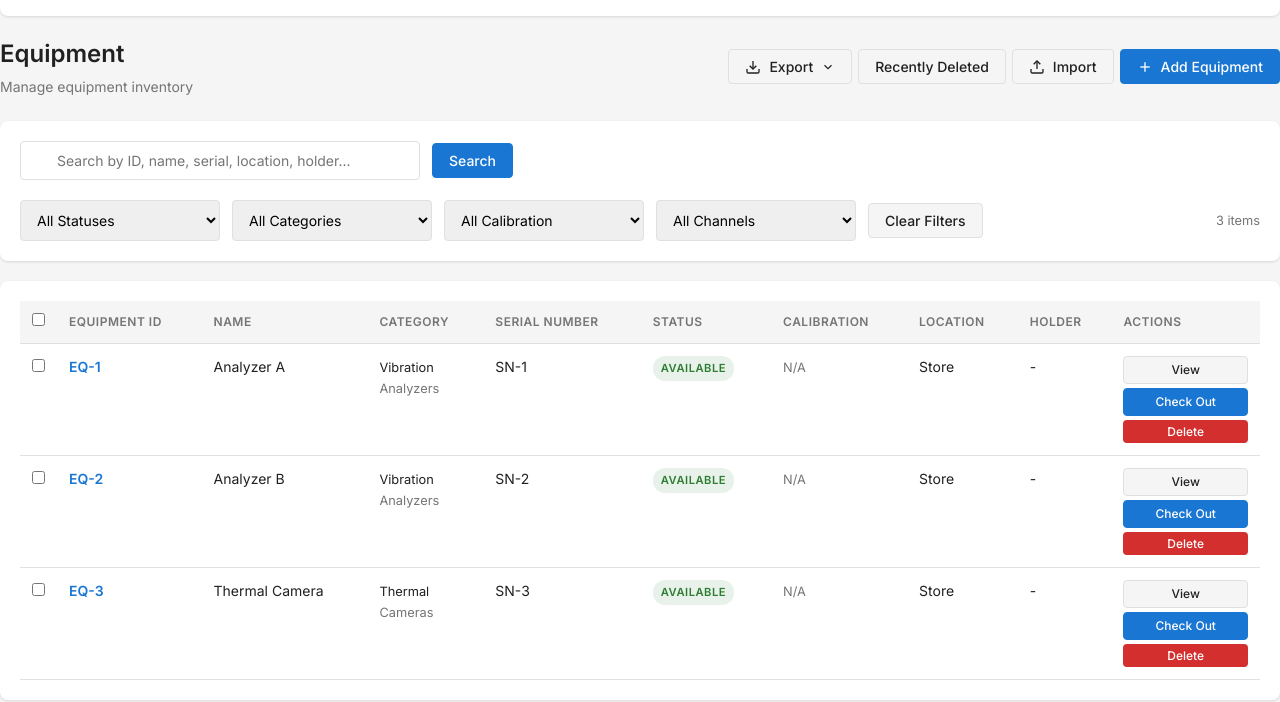
Scenario: Equipment bulk edit › selecting one row adds it to the selection
(page scrolled)
What coordinates should you click on to do the following:
click the checkbox named "Select EQ-1"
I would click on:
 (38, 366)
Its box is [32,359,45,372].
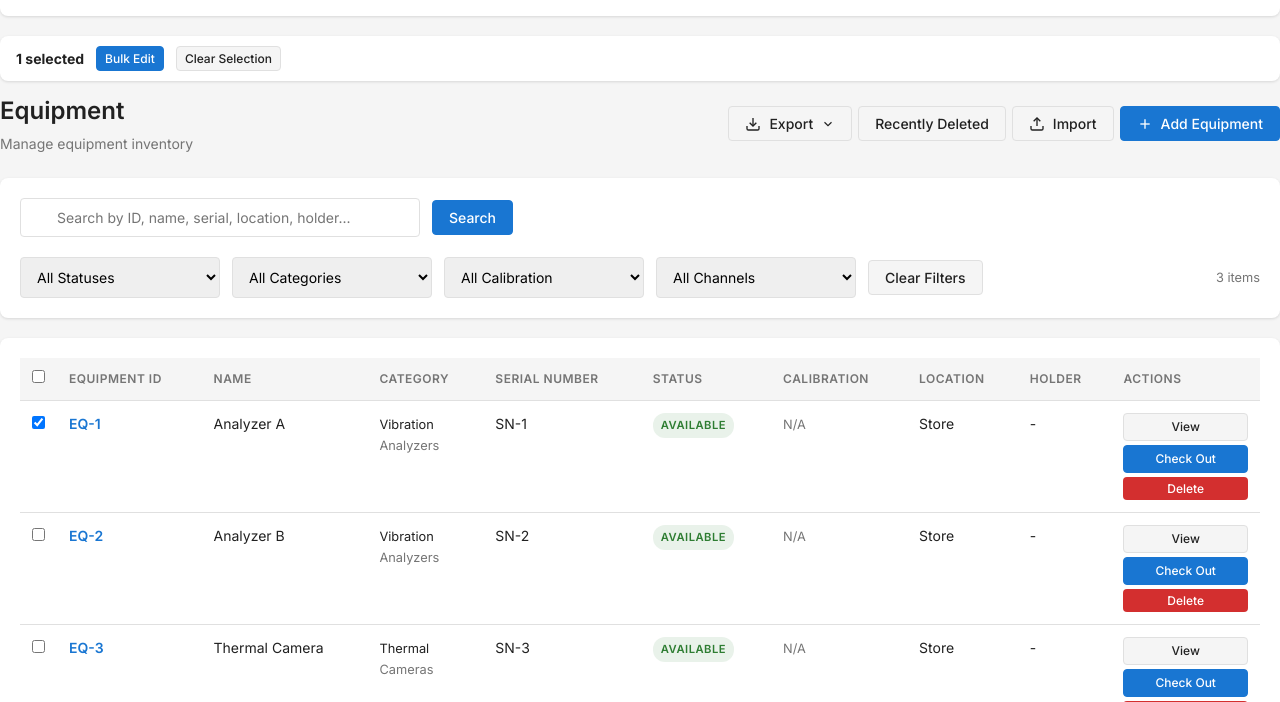
Expected: the text "1 selected" is shown, [16,48,84,69]
